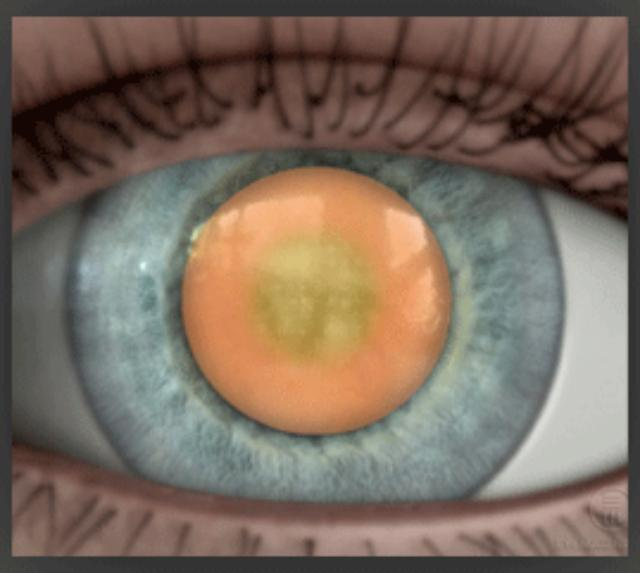eye: (64, 141, 572, 501)
